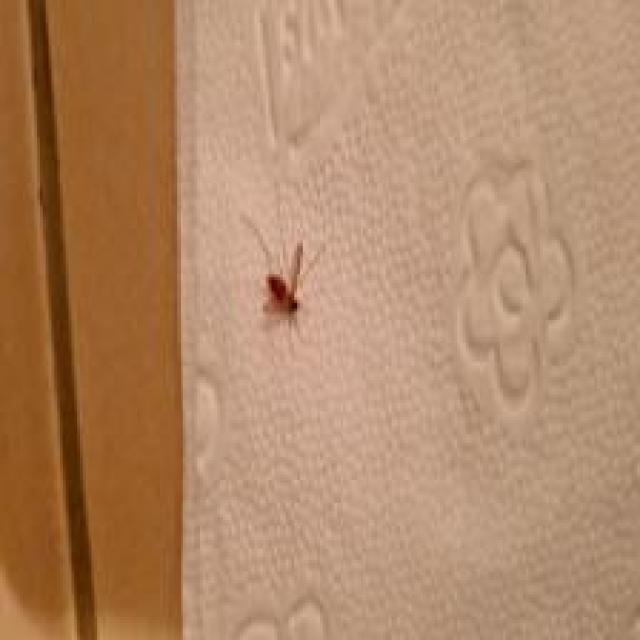Culex: (239, 212, 324, 332)
